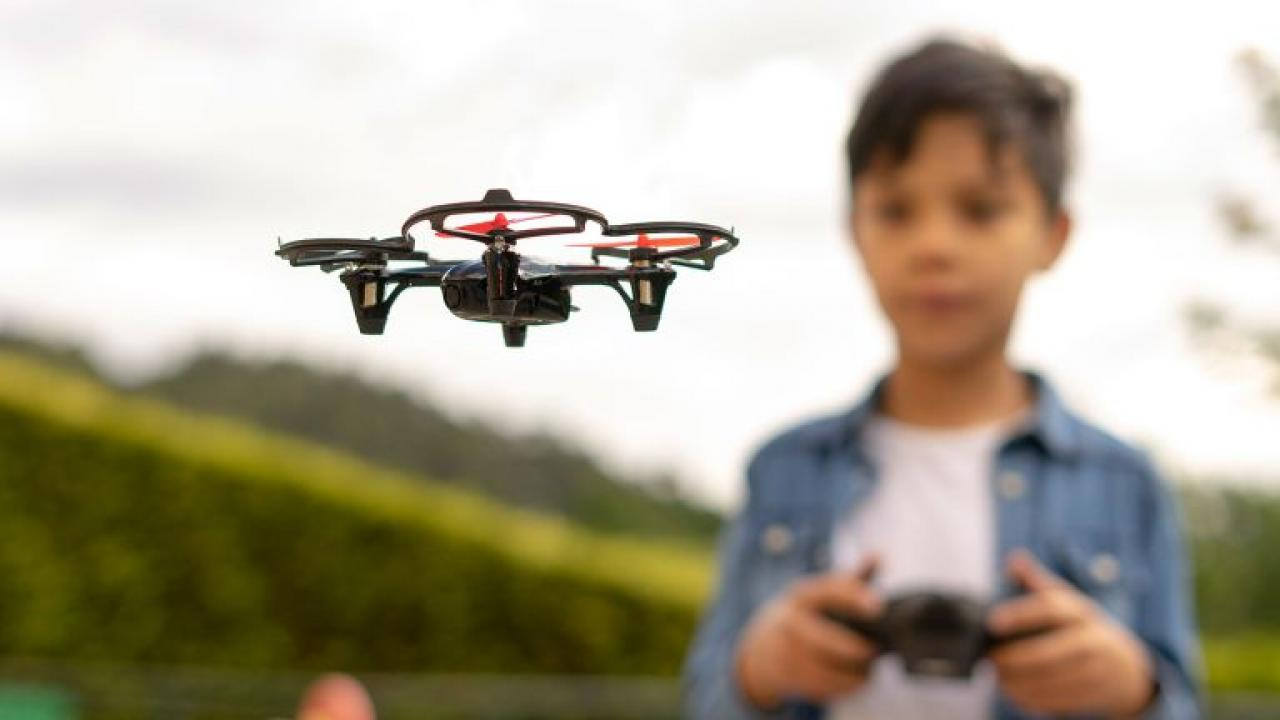Drone: (250, 160, 766, 385)
